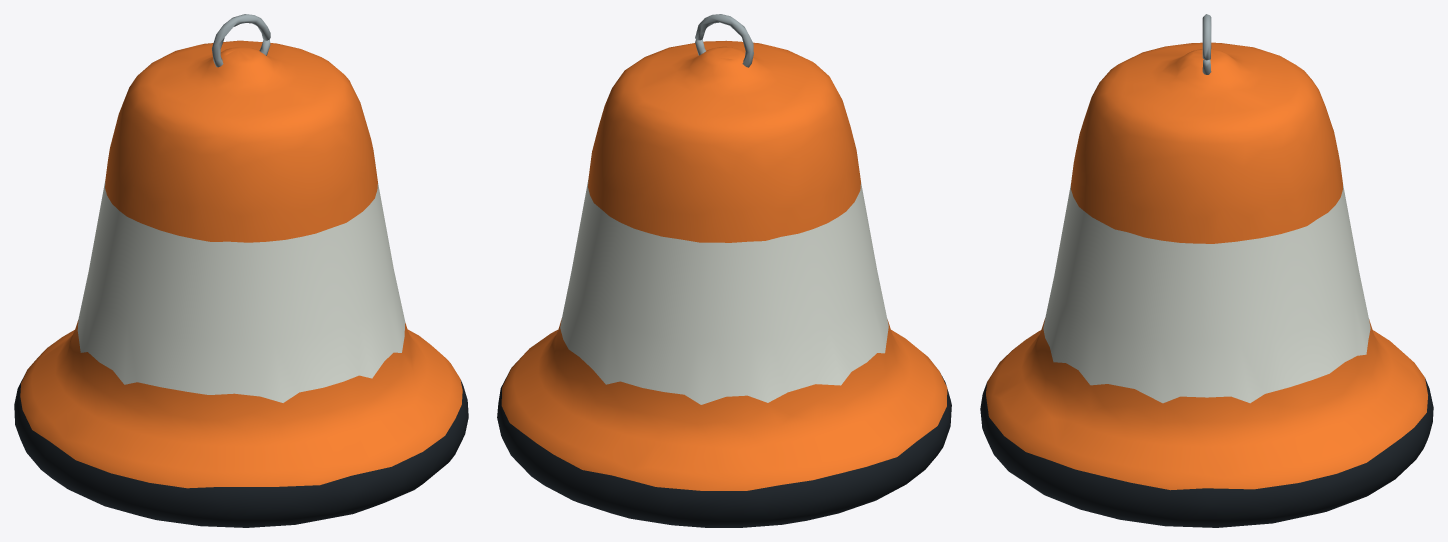
Rendered from Course_buoy_LOD2.glb.
3 views of the same model, side by side, from view 1: azimuth 30°, elevation 25°; view 2: azimuth 150°, elevation 25°; view 3: azimuth 270°, elevation 25° (orthographic).
Visible parts, largest first — view 1: Course_buoy_GameMesh; view 2: Course_buoy_GameMesh; view 3: Course_buoy_GameMesh.
Part boxes in pixels (<box>): Course_buoy_GameMesh: <box>14,14,468,527</box>; Course_buoy_GameMesh: <box>497,14,951,527</box>; Course_buoy_GameMesh: <box>980,14,1433,527</box>.
Bounding box in the file's own units: 0.8537 × 0.9187 × 0.8537.
